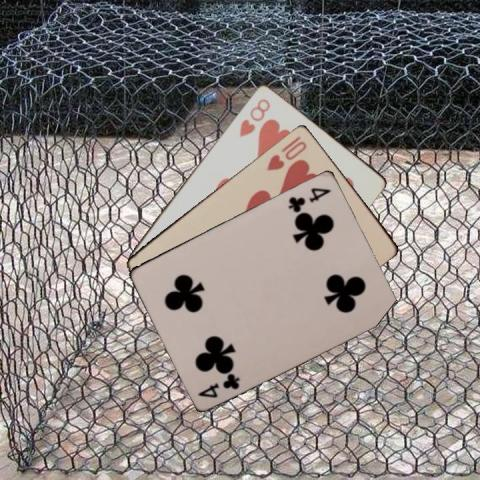10h: (263, 133, 308, 172)
4c: (285, 184, 332, 213), (195, 370, 241, 399)
8h: (236, 94, 272, 138)
